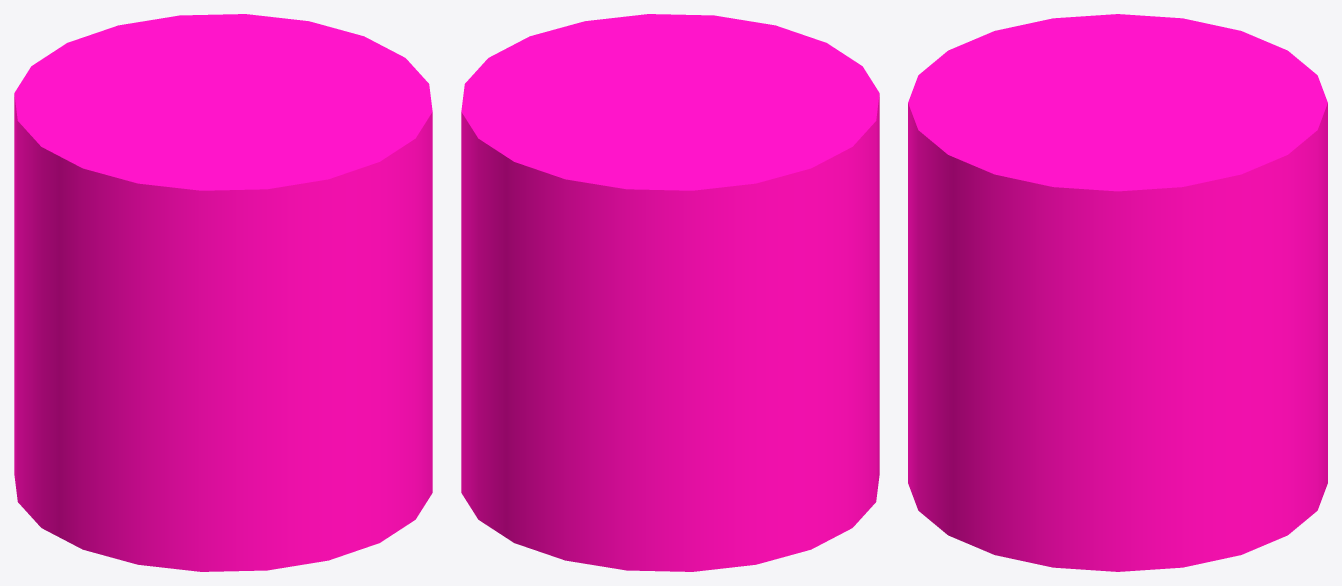
File: BaseCylinder.007.glb
3 views of the same model, side by side, from view 1: azimuth 30°, elevation 25°; view 2: azimuth 150°, elevation 25°; view 3: azimuth 270°, elevation 25° (orthographic).
Visible parts, largest first — view 1: BaseCylinder.007; view 2: BaseCylinder.007; view 3: BaseCylinder.007.
Part boxes in pixels (<box>): BaseCylinder.007: <box>14,14,432,571</box>; BaseCylinder.007: <box>461,14,879,571</box>; BaseCylinder.007: <box>908,14,1327,571</box>.
Size of what is drawn, in the model's own units: 0.7489 by 0.7489 by 0.7489.
1 material, 1 textured.
